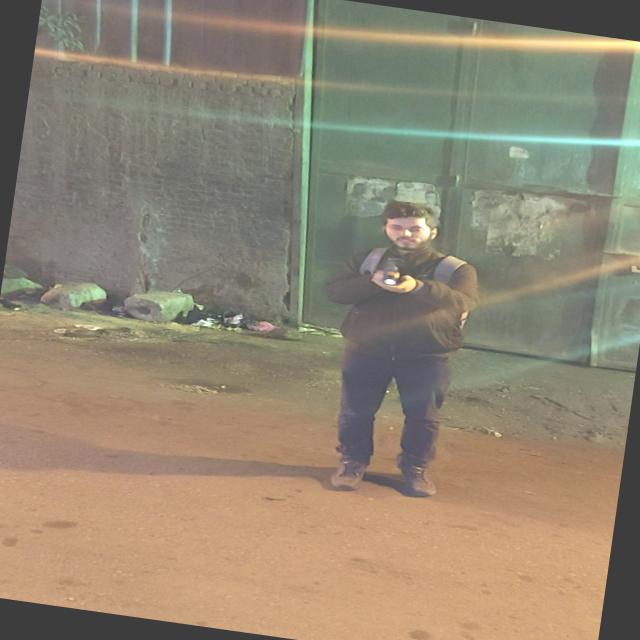long weapon: (365, 244, 438, 308)
